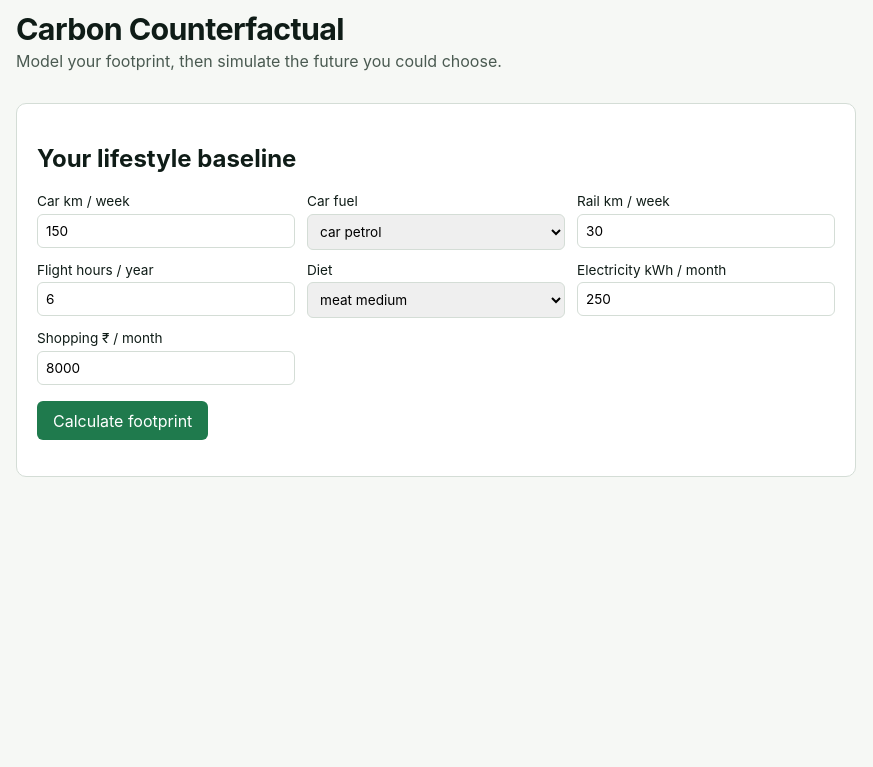
Scenario: App › calculates and shows the footprint
This screenshot has width=873, height=767.
Click the button "Calculate footprint" at (123, 421), box left=37, top=401, right=208, bottom=440
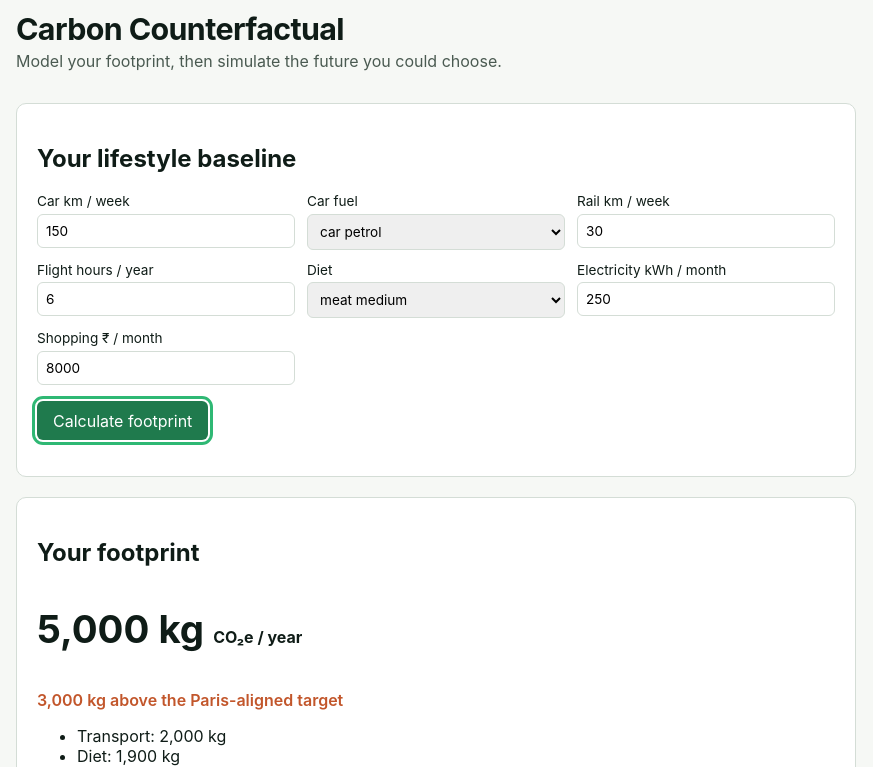
Result: the text "5,000 kg CO₂e / year" is shown at left=37, top=606, right=302, bottom=652
